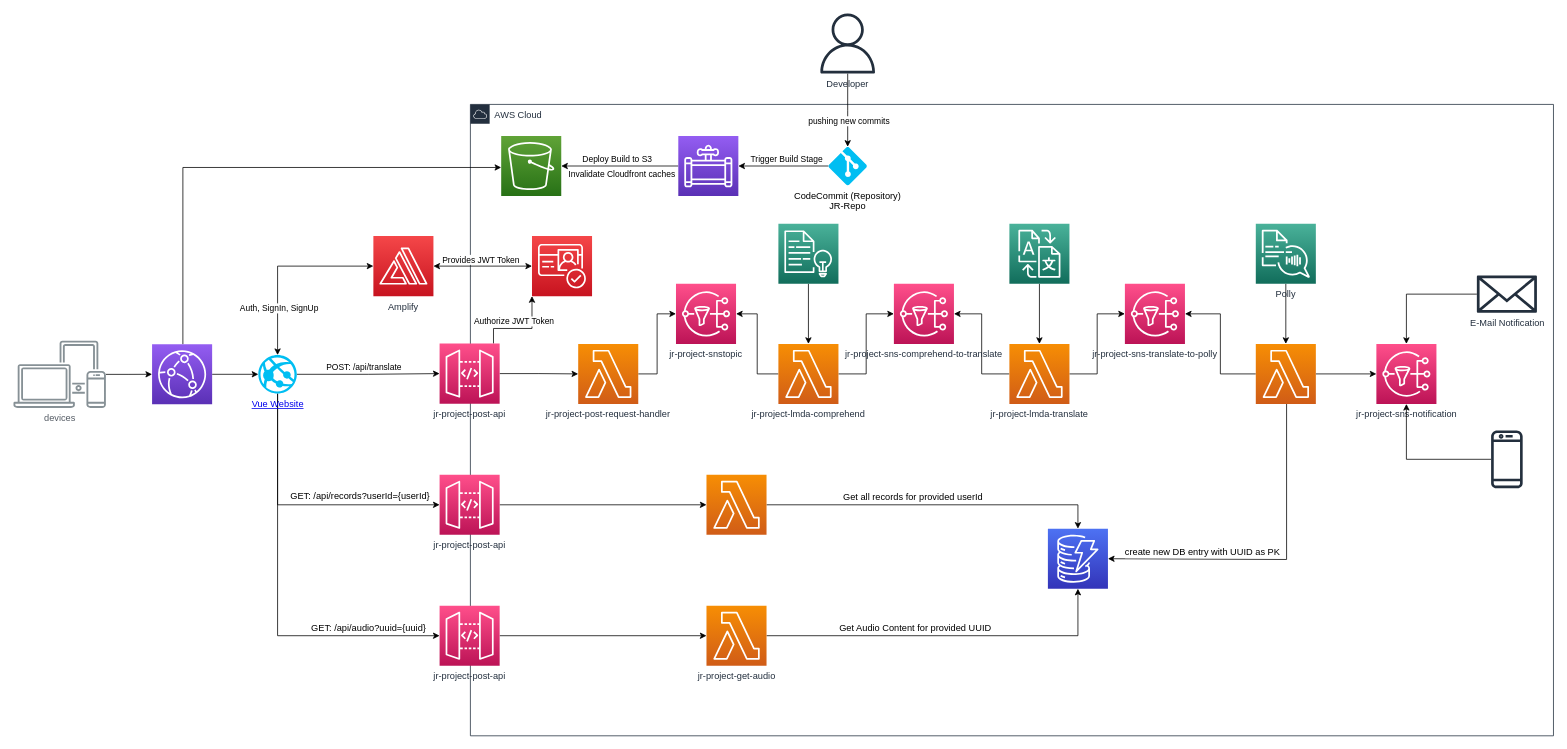
The diagram is 1567 pixels wide and 749 high, and some of its shapes have lost their labels. Here are the shapes that lost their labels. From the top down, the centre of each, then its label:
At (530,165): "jr-project-bucket".
At (708,165): "CodeCommit (Pipeline) JR-pipeline".
At (561,265): "Cognito".
At (808,253): "Comprehend".
At (1039,253): "Translate".
At (181,373): "CloudFront ETZ3ULI0I2IP9".
At (1285,373): "jr-project-lmda-mp3".
At (1506,459): "SMS Notification".
At (736,504): "jr-project-get-records".
At (1077,558): "jr-project-dynamodb".
